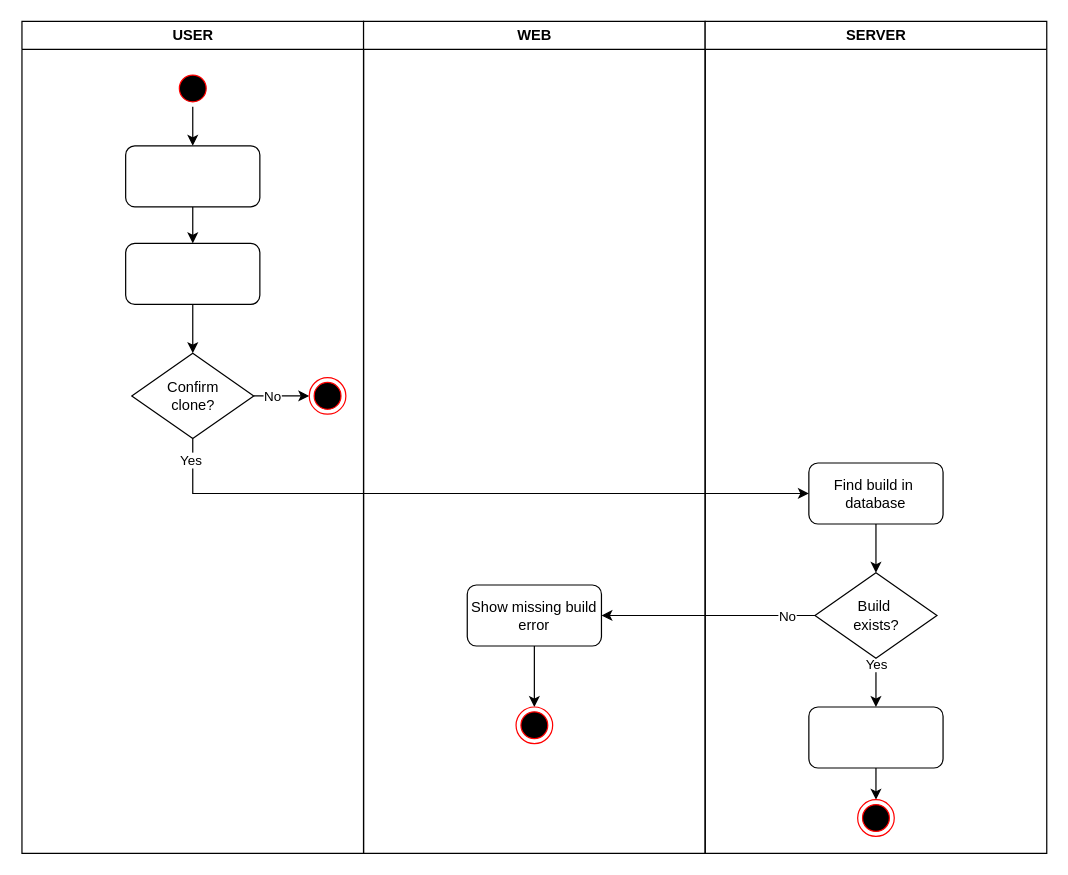
Image size: 1068x875. Some labels were removed from this diagram. Here are the shapes that lost their labels. From the top down, the centre of each, then its label:
point 192,176: Select build to clone
point 192,273: Press clone button
point 875,737: Clone build to user profile
